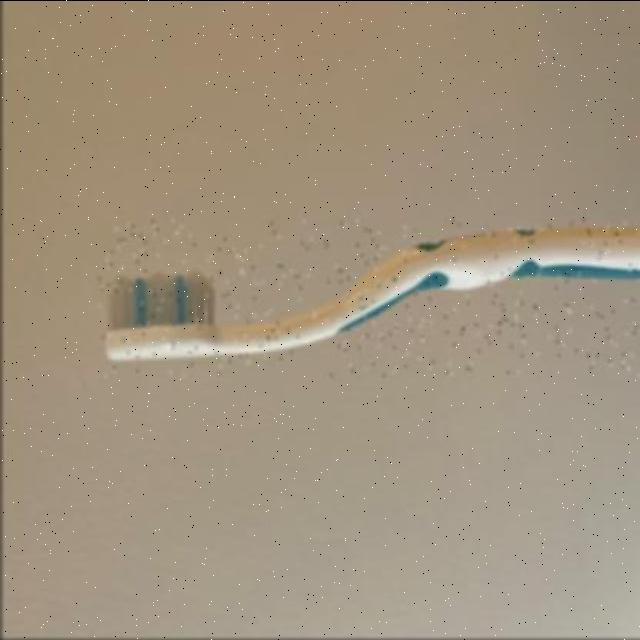toothbrush: (96, 220, 640, 376)
